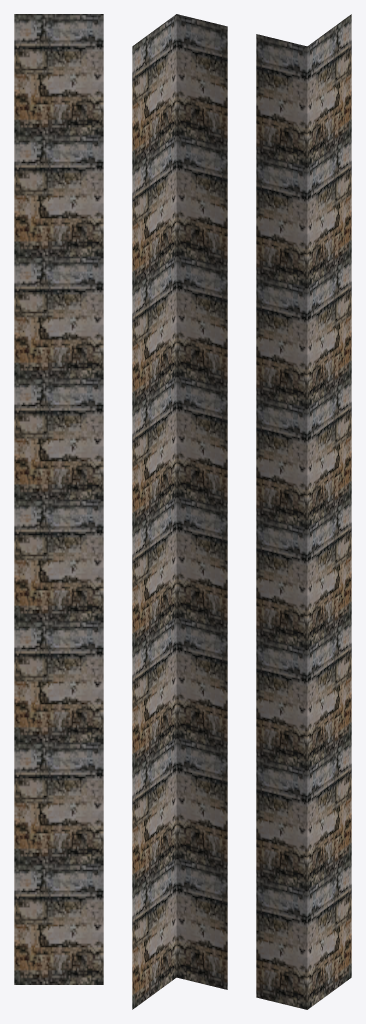
The model's file is M11_FakeCorner02.glb.
The picture shows the model from 3 angles, left to right: view 1: azimuth 90°, elevation 25°; view 2: azimuth 150°, elevation 25°; view 3: azimuth 330°, elevation 25°; orthographic projection.
Parts seen in each view (by area): view 1: M11_FAKECORNER02; view 2: M11_FAKECORNER02; view 3: M11_FAKECORNER02.
Boxes of the visible parts, bbox=[...] form: M11_FAKECORNER02: bbox=[14, 14, 103, 984]; M11_FAKECORNER02: bbox=[132, 14, 227, 1009]; M11_FAKECORNER02: bbox=[256, 14, 351, 1009].
Size of the model in its own units: 0.499 by 9 by 0.75.
Materials: 1 (1 with a texture image).
